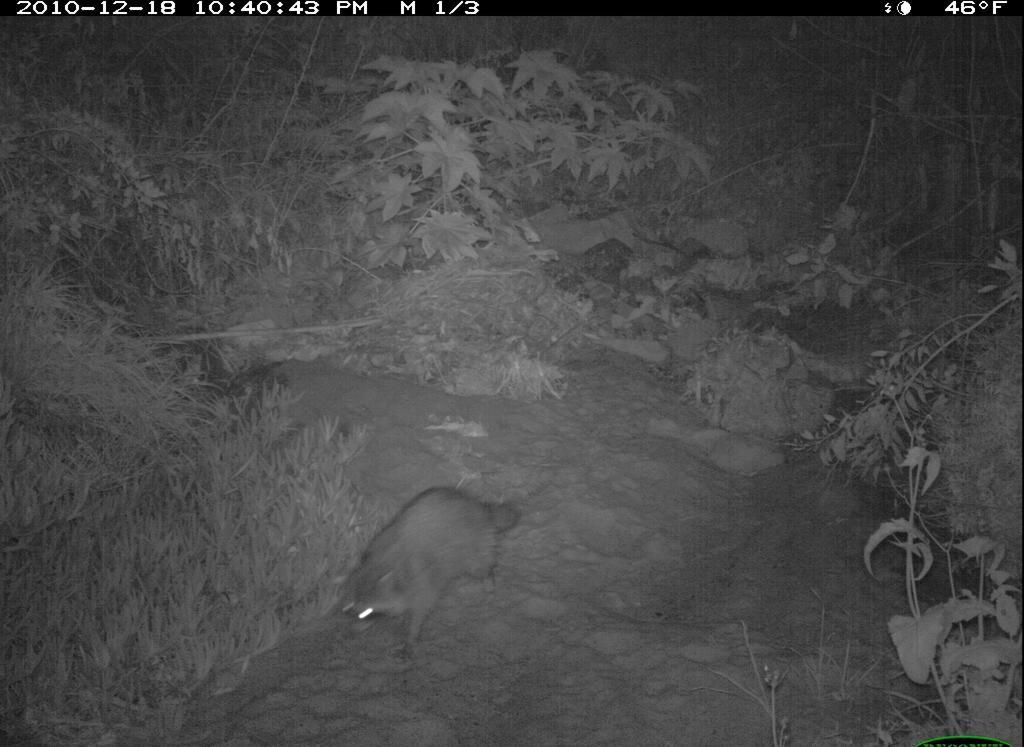raccoon: (329, 484, 541, 667)
